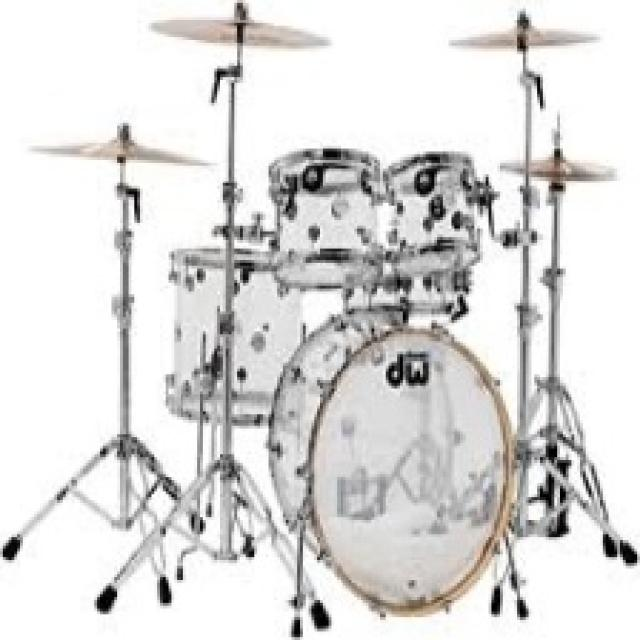drums: (28, 0, 618, 613)
